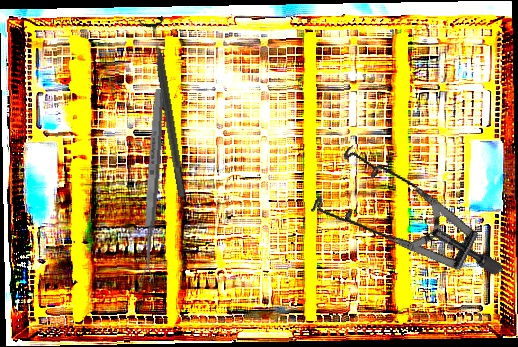Fixation Ring: (136, 15, 197, 200)
Speculum: (292, 110, 505, 337)
Surgical Spoon: (139, 88, 166, 283)
